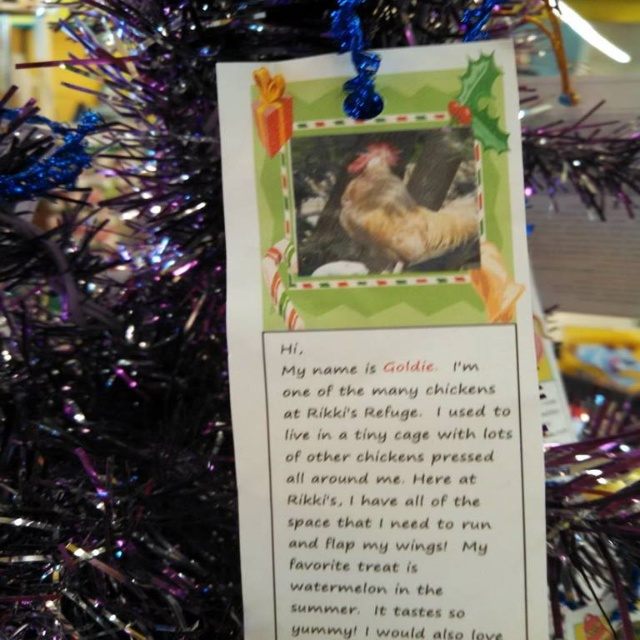Chicken: (331, 121, 489, 263)
